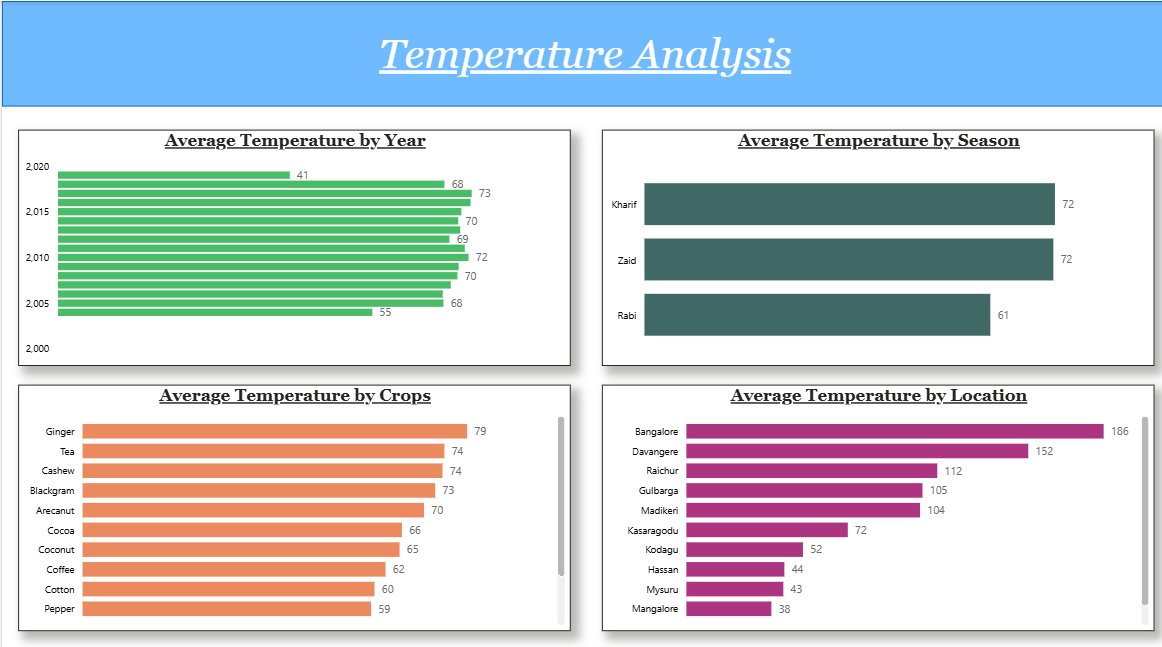

This screenshot's page, from the dashboard's own definition file:
{"tool":"powerbi","page":{"name":"Temperature Analysis","canvas":[1280,720],"ordinal":1},"visuals":[{"type":"shape","box":[0,0,1280.7,115.8],"z":0},{"type":"barChart","title":"Average Temperature by Season","fields":{"Category":["AGRICULTURE.SEASON"],"Y":["Avg(AGRICULTURE.TEMPERATURE)"]},"box":[658.7,141.3,606.5,259.3],"z":1000},{"type":"barChart","title":"Average Temperature by Year","fields":{"Category":["AGRICULTURE.YEAR"],"Y":["Avg(AGRICULTURE.TEMPERATURE)"]},"box":[17.8,141.3,606.5,259.3],"z":2000},{"type":"barChart","title":"Average Temperature by Crops","fields":{"Y":["Avg(AGRICULTURE.TEMPERATURE)"],"Category":["AGRICULTURE.CROPS"]},"box":[17.8,421.3,606.5,270.3],"z":3000},{"type":"barChart","title":"Average Temperature by Location","fields":{"Y":["Avg(AGRICULTURE.TEMPERATURE)"],"Category":["AGRICULTURE.LOCATION"]},"box":[658.7,421.3,606.5,270.3],"z":4000}]}

Visuals, with their boxes in screenshot pixels (x1, y1, x2, y2), scaled from the page's 1280x720 canvas onto the 1162x647 screenshot:
shape: <box>0,0,1161,104</box>
"Average Temperature by Season" barChart: <box>598,127,1149,360</box>
"Average Temperature by Year" barChart: <box>16,127,567,360</box>
"Average Temperature by Crops" barChart: <box>16,379,567,621</box>
"Average Temperature by Location" barChart: <box>598,379,1149,621</box>
